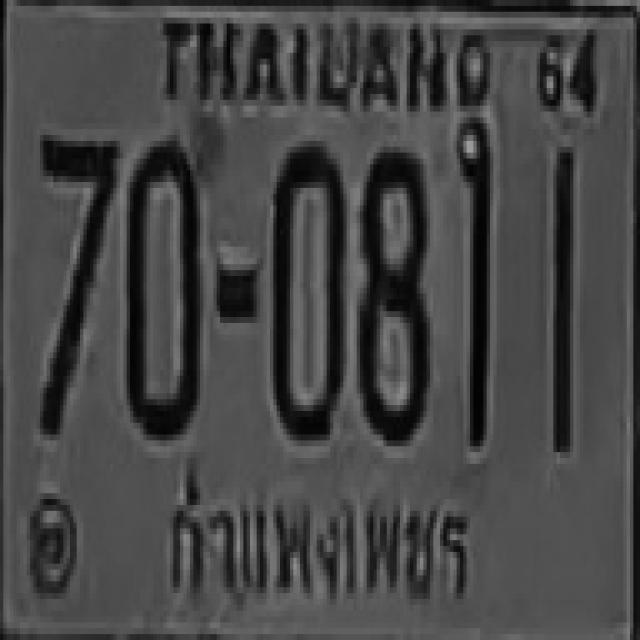0: (125, 135, 198, 435), (270, 141, 343, 434)
1: (458, 120, 492, 443), (462, 126, 488, 444), (550, 144, 573, 449)
7: (36, 132, 116, 432)
8: (356, 144, 426, 437)
KamphaengPhet: (156, 459, 491, 616)
